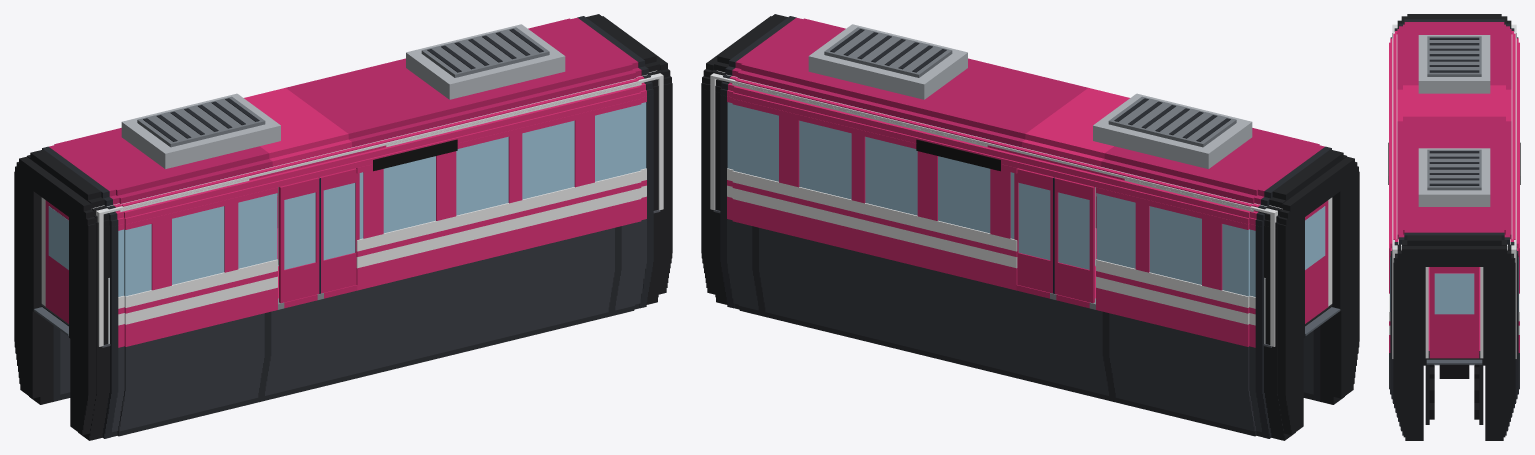
File: mumbai_car.obj
3 renders of one model, left to right at view 1: azimuth 30°, elevation 25°; view 2: azimuth 150°, elevation 25°; view 3: azimuth 270°, elevation 25°, orthographic. The views are drawn at different scales.
Visible parts, largest first — view 1: SHELL, SHELL_diaphragm, SHELL_roof, EXTERNAL_DOOR_4_CG_DR1_TOGGLE_TL_-0.69_X, EXTERNAL_DOOR_5_CG_DR1_TOGGLE_TL_0.69_X, CONNECTING_DOOR_1_CG_CR_TOGGLE_TL_0.98_Z, SHELL_ceiling, SHELL_end, SHELL_sign, SHELL_ad; view 2: SHELL, SHELL_diaphragm, SHELL_roof, EXTERNAL_DOOR_7_CG_DL1_TOGGLE_TL_-0.69_X, EXTERNAL_DOOR_8_CG_DL1_TOGGLE_TL_0.69_X, CONNECTING_DOOR_1_CG_CR_TOGGLE_TL_0.98_Z, SHELL_ceiling, SHELL_end, SHELL_sign, SHELL_ad; view 3: SHELL, SHELL_diaphragm, SHELL_roof, CONNECTING_DOOR_2_CG_CF_TOGGLE_TL_0.98_Z, SHELL_ceiling, SHELL_end, BOGEY_FRONT, BOGEY_FRONT_WHEEL_1, SHELL_gangway.
Part boxes in pixels (<box>): SHELL: <box>27,14,664,440</box>; SHELL_diaphragm: <box>14,16,672,435</box>; SHELL_roof: <box>121,24,565,168</box>; EXTERNAL_DOOR_4_CG_DR1_TOGGLE_TL_-0.69_X: <box>279,177,320,303</box>; EXTERNAL_DOOR_5_CG_DR1_TOGGLE_TL_0.69_X: <box>319,168,359,293</box>; CONNECTING_DOOR_1_CG_CR_TOGGLE_TL_0.98_Z: <box>45,200,68,323</box>; SHELL_ceiling: <box>97,71,659,214</box>; SHELL_end: <box>41,70,663,346</box>; SHELL_sign: <box>373,139,457,171</box>; SHELL_ad: <box>120,83,641,211</box>; SHELL: <box>709,14,1346,440</box>; SHELL_diaphragm: <box>701,16,1359,435</box>; SHELL_roof: <box>808,24,1252,168</box>; EXTERNAL_DOOR_7_CG_DL1_TOGGLE_TL_-0.69_X: <box>1053,177,1094,303</box>; EXTERNAL_DOOR_8_CG_DL1_TOGGLE_TL_0.69_X: <box>1014,168,1053,293</box>; CONNECTING_DOOR_1_CG_CR_TOGGLE_TL_0.98_Z: <box>1305,200,1328,323</box>; SHELL_ceiling: <box>713,71,1276,213</box>; SHELL_end: <box>710,70,1332,346</box>; SHELL_sign: <box>916,139,1000,171</box>; SHELL_ad: <box>732,83,1253,211</box>; SHELL: <box>1389,14,1519,440</box>; SHELL_diaphragm: <box>1394,16,1514,437</box>; SHELL_roof: <box>1418,35,1490,206</box>; CONNECTING_DOOR_2_CG_CF_TOGGLE_TL_0.98_Z: <box>1429,267,1479,358</box>; SHELL_ceiling: <box>1392,26,1516,248</box>; SHELL_end: <box>1392,24,1516,358</box>; BOGEY_FRONT: <box>1425,363,1483,424</box>; BOGEY_FRONT_WHEEL_1: <box>1435,364,1473,378</box>; SHELL_gangway: <box>1426,359,1482,364</box>.
Bounding box in the file's own units: 11.12 × 4.8 × 2.66.
1 material, 1 textured.
